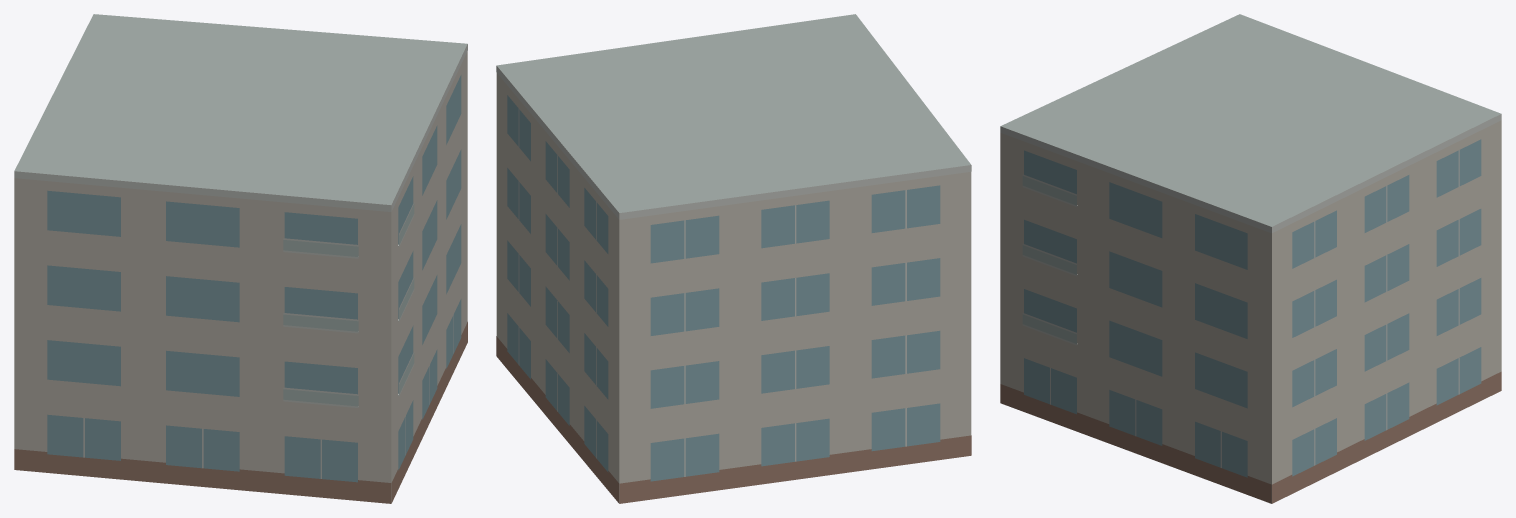
File: survey-upis-32787729.glb
3 views of the same model, side by side, from view 1: azimuth 30°, elevation 25°; view 2: azimuth 150°, elevation 25°; view 3: azimuth 270°, elevation 25° (orthographic). The views are drawn at different scales.
Visible parts, largest first — view 1: survey-upis-32787729.tmp; view 2: survey-upis-32787729.tmp; view 3: survey-upis-32787729.tmp.
Part boxes in pixels (<box>): survey-upis-32787729.tmp: <box>14,14,467,503</box>; survey-upis-32787729.tmp: <box>496,14,971,503</box>; survey-upis-32787729.tmp: <box>1000,14,1501,503</box>.
Size of the model in its own units: 17.33 by 10.5 by 17.23.
